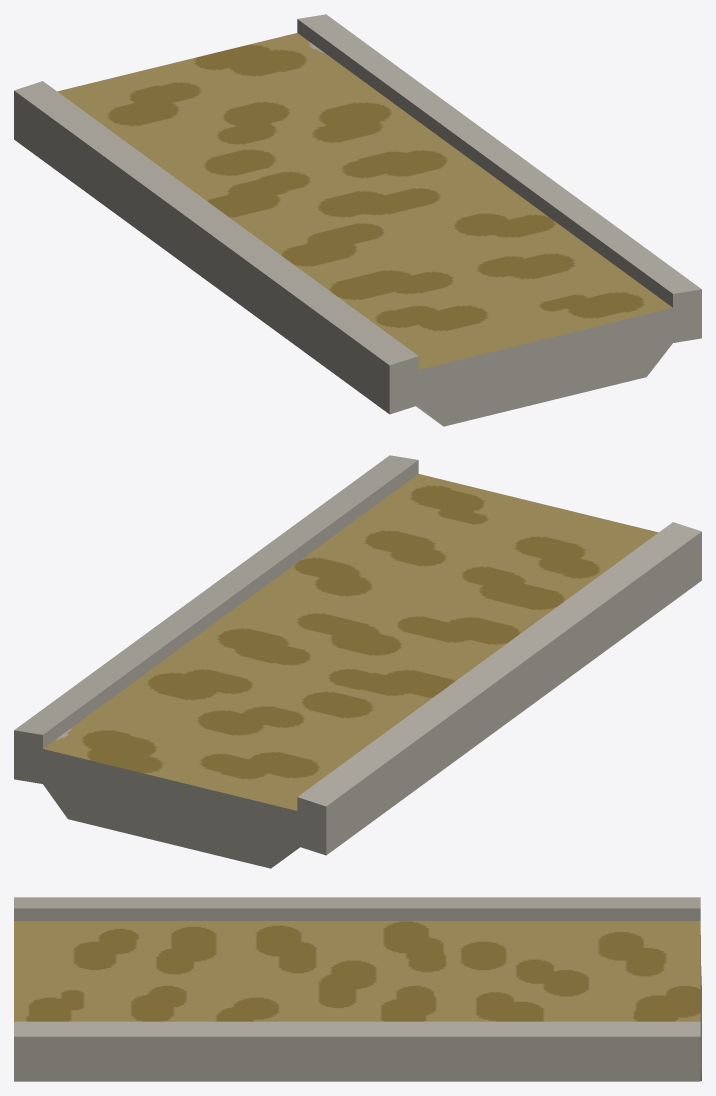
File: saglam_orta_kopru.fbx
3 renders of one model, top to bottom at view 1: azimuth 30°, elevation 25°; view 2: azimuth 150°, elevation 25°; view 3: azimuth 270°, elevation 25°, orthographic. The views are drawn at different scales.
Visible parts, largest first — view 1: Plane.005; view 2: Plane.005; view 3: Plane.005.
Part boxes in pixels (x1=…): Plane.005: x1=14, y1=14, x2=701, y2=426; Plane.005: x1=14, y1=455, x2=701, y2=868; Plane.005: x1=14, y1=897, x2=701, y2=1081.
Size of the model in its own units: 6.18 by 1.46 by 12.91.
Materials: 1 (1 with a texture image).
